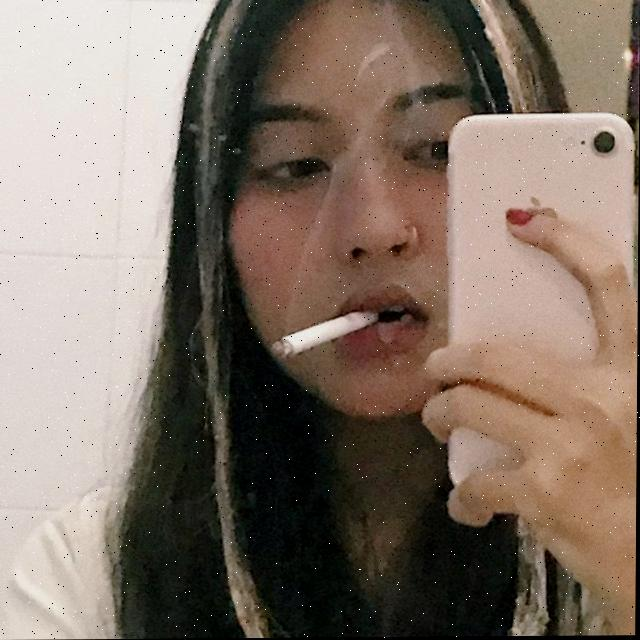cigarette: (268, 312, 380, 362)
